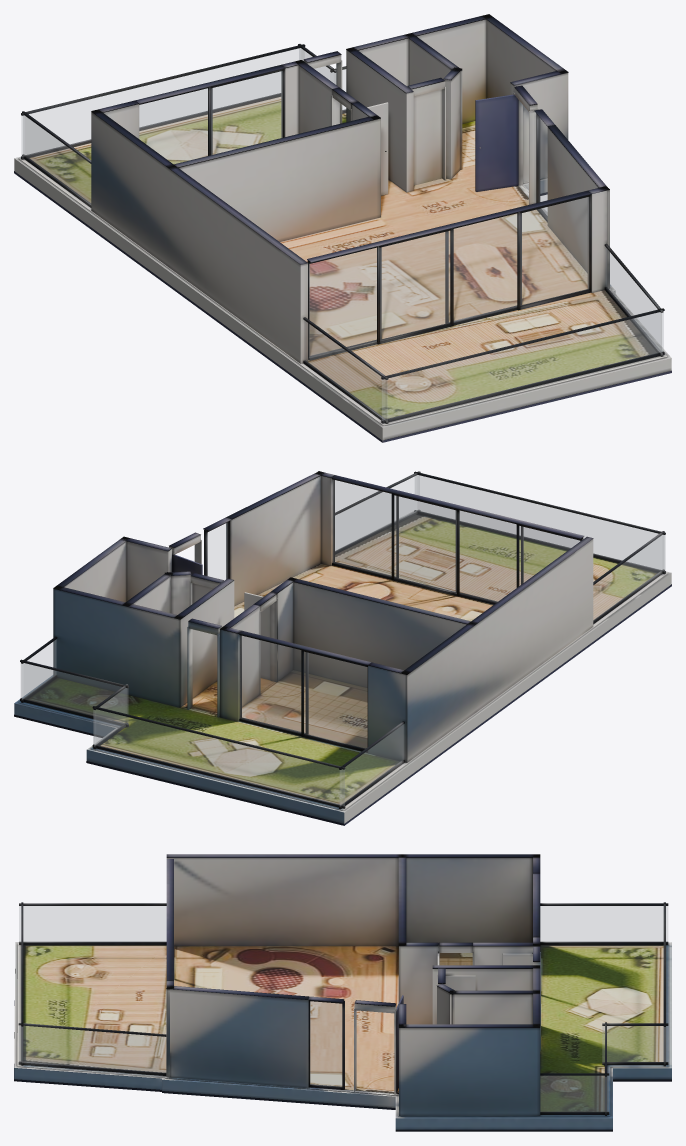
3 views of the same model, one above another, from view 1: azimuth 30°, elevation 25°; view 2: azimuth 150°, elevation 25°; view 3: azimuth 270°, elevation 25° (orthographic). The views are drawn at different scales.
Visible parts, largest first — view 1: plan, glass1_m, railg2_m, glass0_m, railg0_m, railg6_m, railg5_m, railg7_m, glass2_m; view 2: plan, glass1_m, glass0_m, railg0_m, railg2_m, railg1_m, railg7_m, railg6_m, railg5_m, railg3_m, railg4_m, glass2_m; view 3: plan, railg7_m, railg6_m, railg5_m, glass2_m, railg3_m, railg4_m.
Part boxes in pixels (<box>): plan: <box>14,14,671,442</box>; glass1_m: <box>309,197,588,357</box>; railg2_m: <box>382,311,663,420</box>; glass0_m: <box>139,71,282,163</box>; railg0_m: <box>21,48,303,156</box>; railg6_m: <box>304,321,387,420</box>; railg5_m: <box>23,116,90,203</box>; railg7_m: <box>606,248,661,352</box>; glass2_m: <box>539,117,547,216</box>; plan: <box>14,471,671,825</box>; glass1_m: <box>333,480,579,602</box>; glass0_m: <box>240,635,367,748</box>; railg0_m: <box>93,709,344,805</box>; railg2_m: <box>415,475,665,570</box>; railg1_m: <box>21,663,128,723</box>; railg7_m: <box>335,475,419,550</box>; railg6_m: <box>593,535,663,620</box>; railg5_m: <box>340,724,403,805</box>; railg3_m: <box>22,640,56,699</box>; railg4_m: <box>94,688,126,746</box>; glass2_m: <box>208,523,227,580</box>; plan: <box>14,854,671,1131</box>; railg7_m: <box>19,1025,165,1072</box>; railg6_m: <box>19,906,166,941</box>; railg5_m: <box>540,906,667,941</box>; glass2_m: <box>310,1001,341,1086</box>; railg3_m: <box>540,1076,608,1111</box>; railg4_m: <box>602,1026,667,1061</box>.
Bounding box in the file's own units: 9.63 × 2.62 × 15.21.
2 materials, 1 textured.
